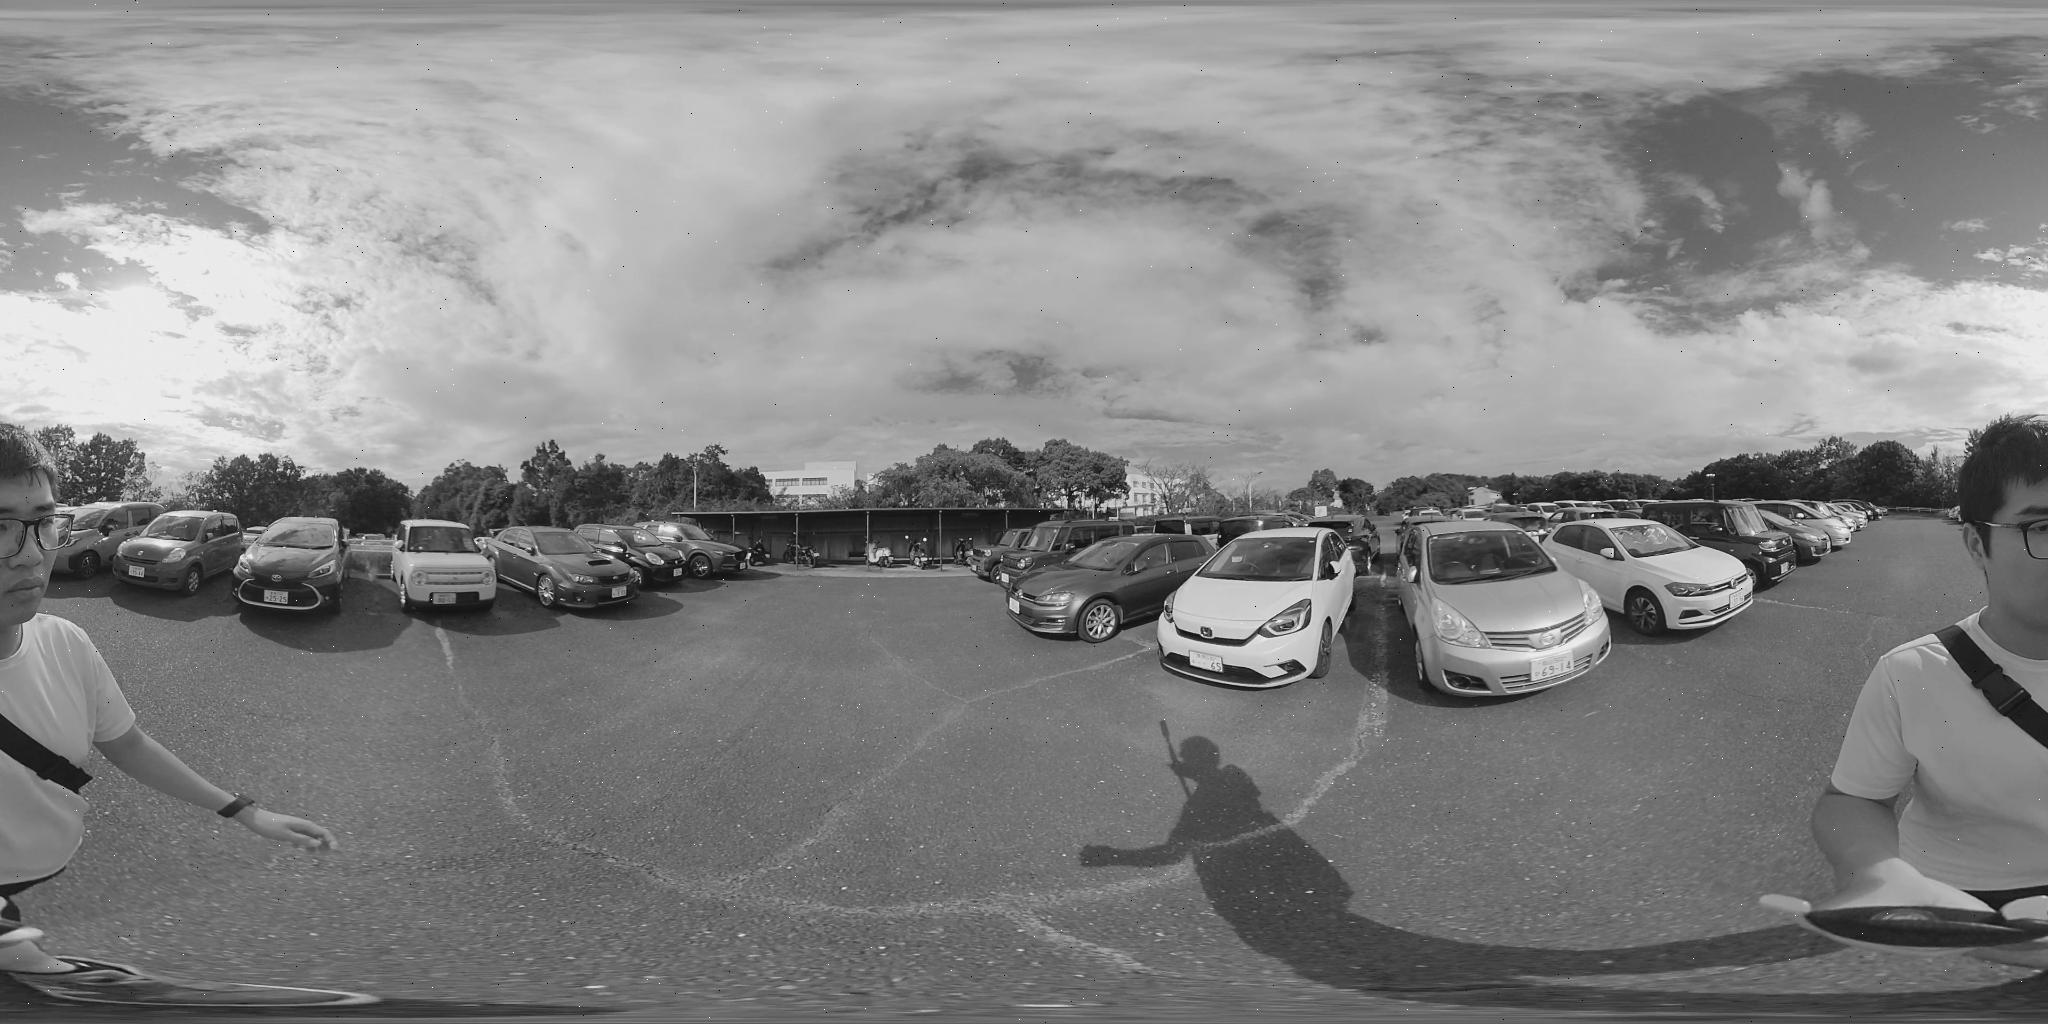car: (1370, 515, 1617, 707), (1151, 522, 1368, 691), (1526, 516, 1755, 636), (1004, 533, 1219, 644), (1624, 499, 1814, 585), (478, 530, 652, 613), (107, 511, 249, 590), (226, 521, 346, 615), (383, 519, 498, 613), (575, 524, 724, 580), (54, 502, 170, 571)
